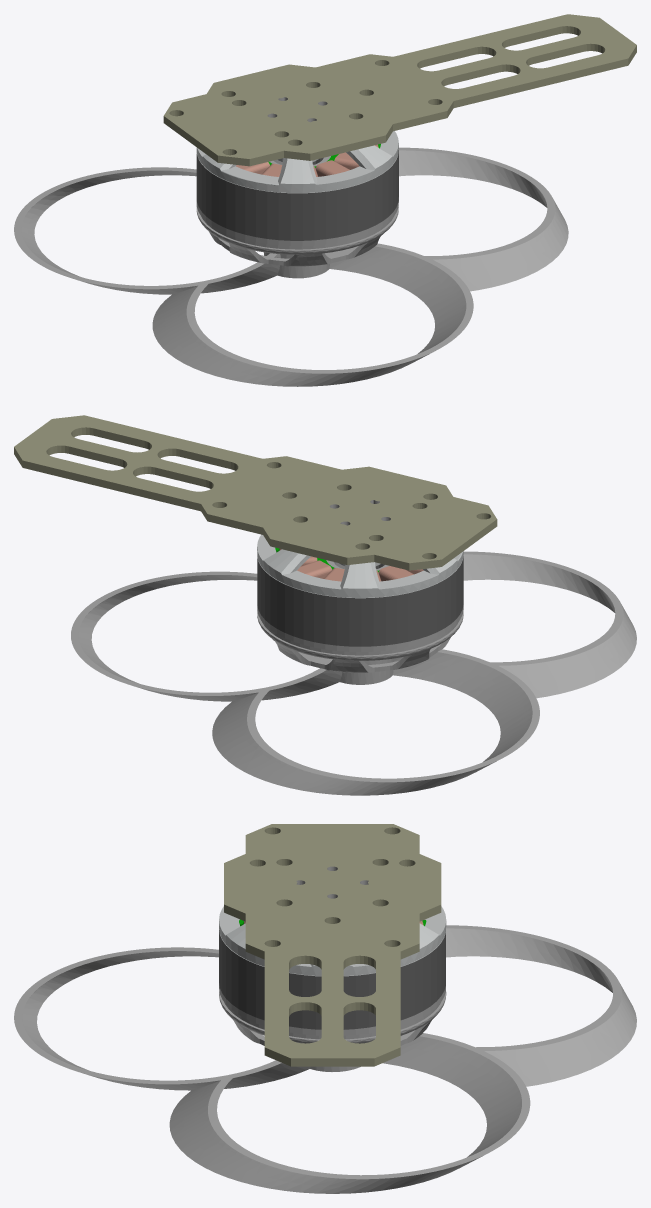
File: toroidal-propeller.glb
3 renders of one model, top to bottom at view 1: azimuth 30°, elevation 25°; view 2: azimuth 150°, elevation 25°; view 3: azimuth 270°, elevation 25°, orthographic. The views are drawn at different scales.
Parts seen in each view (by area): view 1: empty_2; view 2: empty_2; view 3: empty_2.
Part boxes in pixels (left/top/right/bottom): empty_2: left=14, top=14, right=636, bottom=386; empty_2: left=14, top=415, right=636, bottom=795; empty_2: left=14, top=824, right=636, bottom=1193.
Bounding box in the file's own units: 126 × 35.2 × 115.
